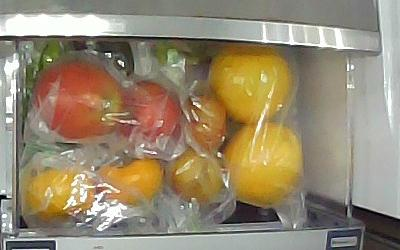apple_vinyl: (37, 59, 125, 138), (117, 80, 180, 143)
grapefruit_vinyl: (224, 123, 306, 208), (209, 43, 295, 124)
persimmon_vinyl: (23, 166, 95, 224), (96, 153, 164, 207)
prune_vinyl: (171, 154, 226, 204), (183, 96, 229, 152)
